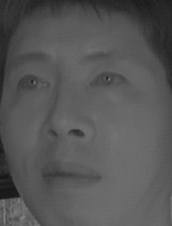eye: (89, 65, 129, 94), (10, 71, 52, 95)
mouth: (37, 158, 103, 193)
